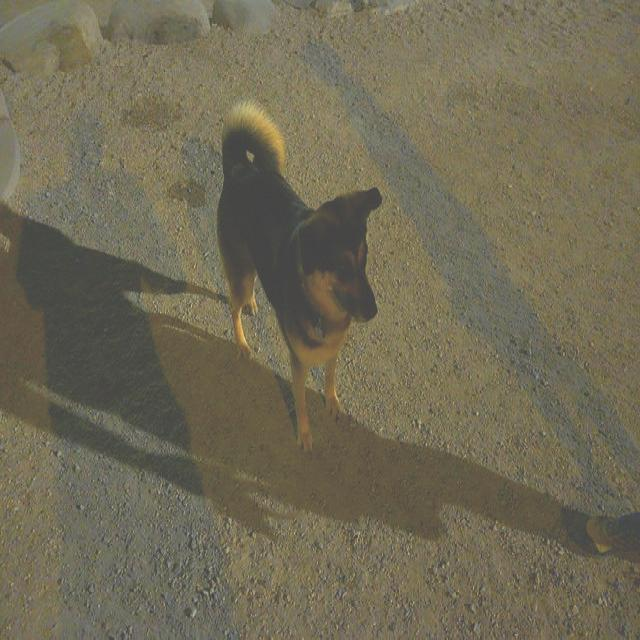Dog: (194, 94, 394, 414)
